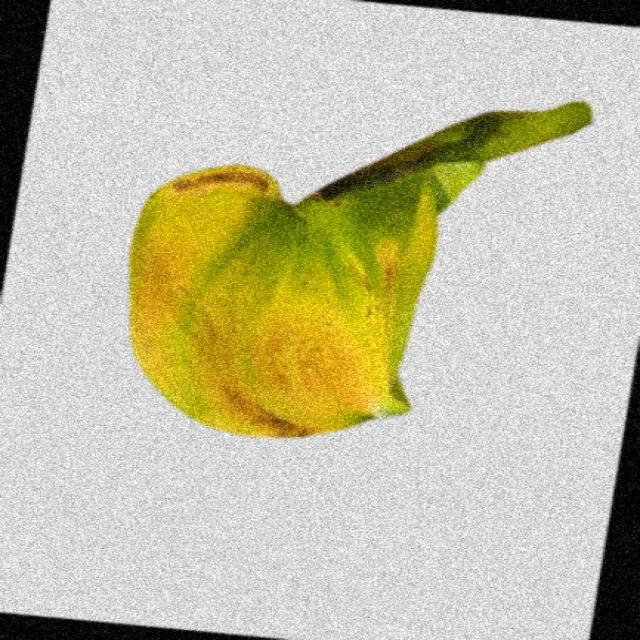daun berpenyakit kuning: (130, 102, 590, 436)
